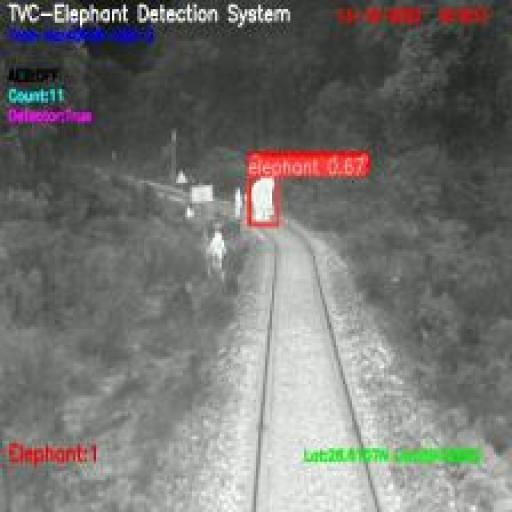Elephant: (245, 176, 274, 226)
